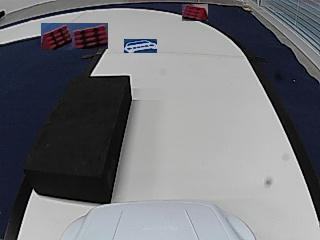block: (34, 75, 132, 202)
